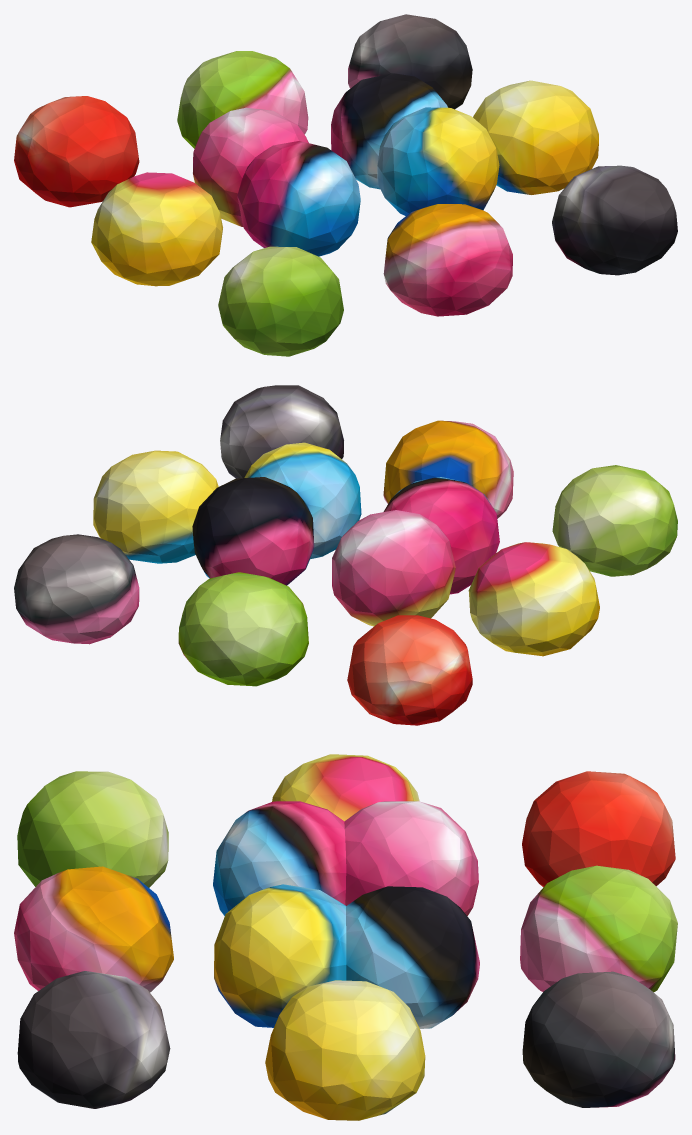
Rendered from HariboD.fbx.
3 views of the same model, one above another, from view 1: azimuth 30°, elevation 25°; view 2: azimuth 150°, elevation 25°; view 3: azimuth 270°, elevation 25° (orthographic). The views are drawn at different scales.
Visible parts, largest first — view 1: Mesh1.0; view 2: Mesh1.0; view 3: Mesh1.0.
Part boxes in pixels (left/top/right/bottom): Mesh1.0: left=14, top=14, right=677, bottom=356; Mesh1.0: left=14, top=385, right=677, bottom=725; Mesh1.0: left=14, top=754, right=677, bottom=1120.
Size of the model in its own units: 190 by 43.33 by 180.
Materials: 1 (1 with a texture image).
